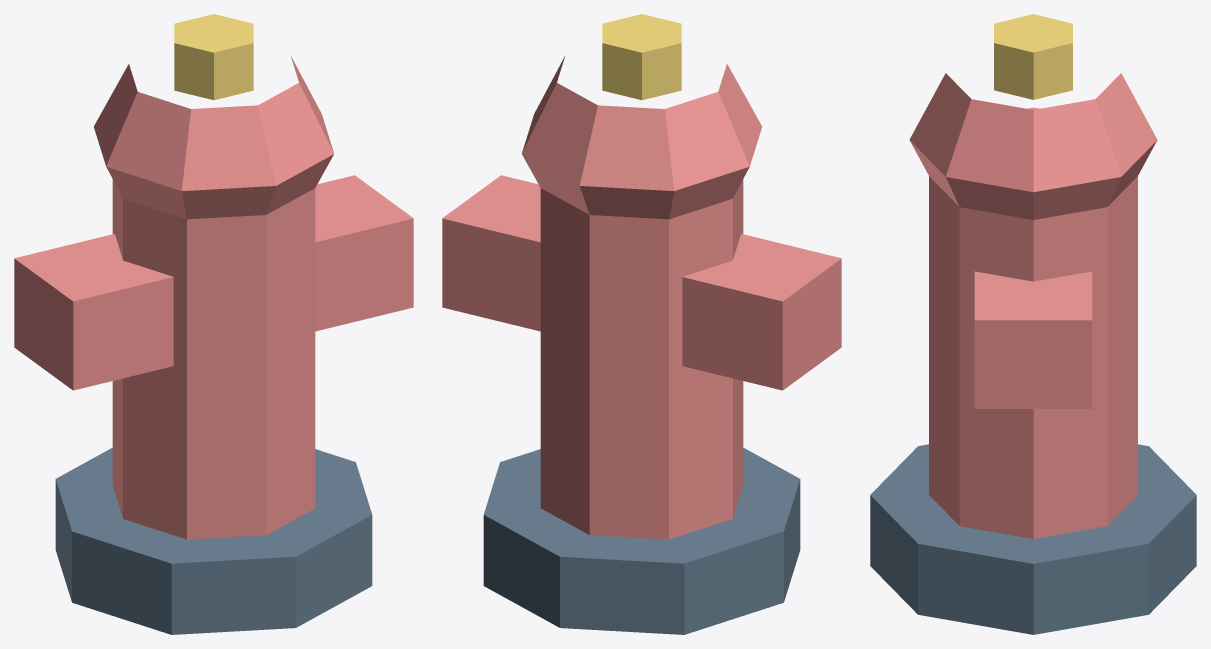
Rendered from 22_hydrant.glb.
The picture shows the model from 3 angles, left to right: view 1: azimuth 30°, elevation 25°; view 2: azimuth 150°, elevation 25°; view 3: azimuth 270°, elevation 25°; orthographic projection.
Visible parts, largest first — view 1: 22_hydrant; view 2: 22_hydrant; view 3: 22_hydrant.
Boxes of the visible parts, bbox=[...] form: 22_hydrant: bbox=[14, 14, 413, 634]; 22_hydrant: bbox=[442, 14, 841, 634]; 22_hydrant: bbox=[870, 14, 1196, 634].
Bounding box in the file's own units: 0.6 × 0.9 × 0.5.
